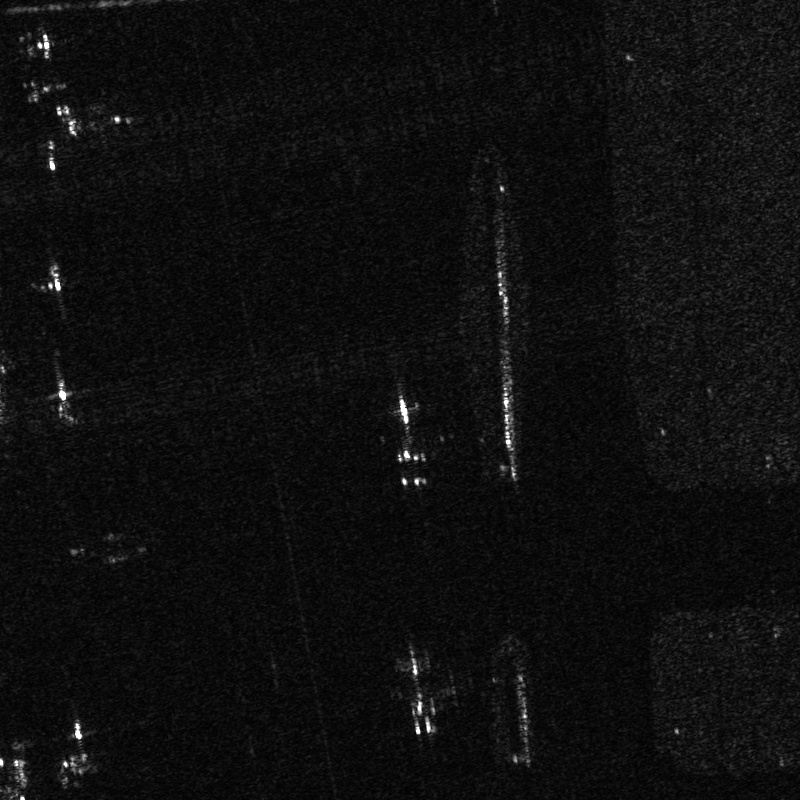A220: (36, 368, 91, 423), (50, 718, 102, 775), (35, 263, 80, 318), (11, 30, 71, 64), (45, 100, 82, 140)
other: (361, 651, 475, 735), (364, 391, 448, 487), (18, 78, 75, 104)
